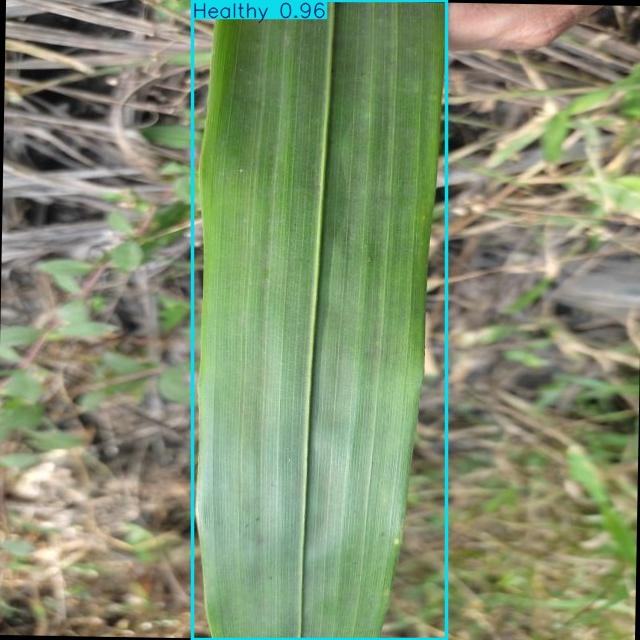Healthy: (192, 0, 446, 640)
